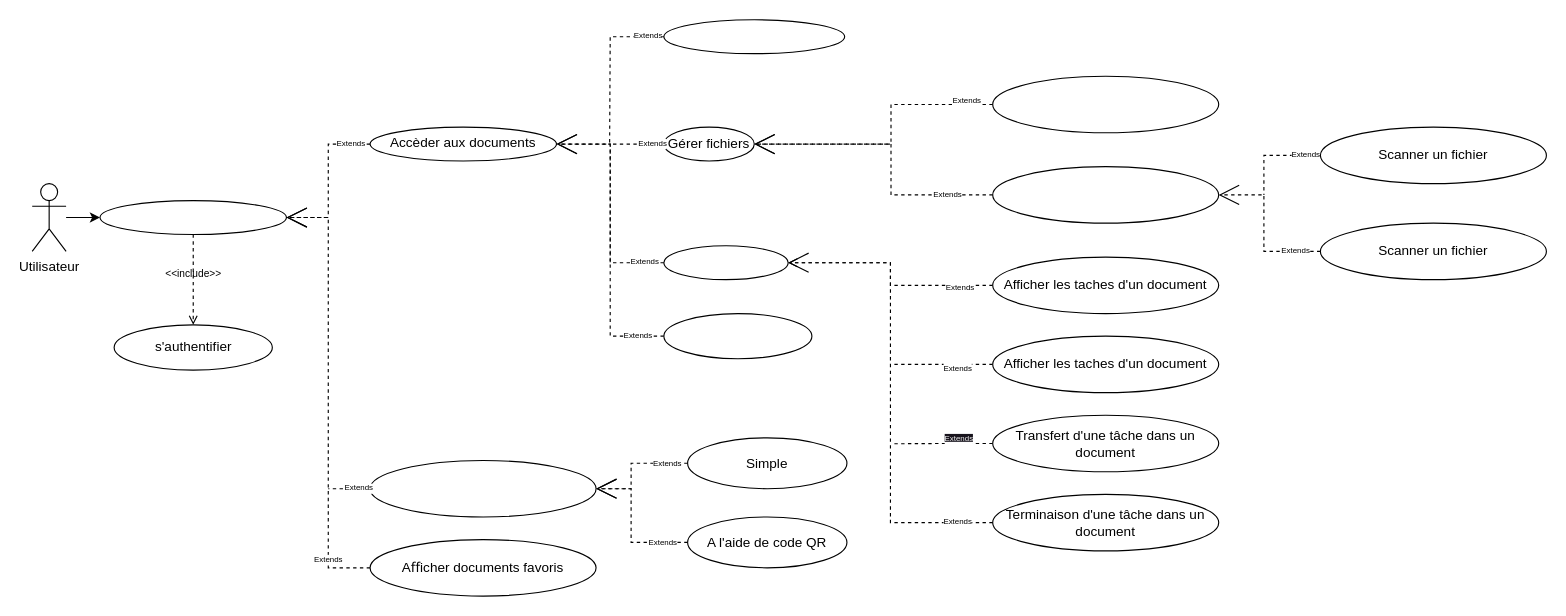
This 1566x616 diagram has some shape labels left out. The box of each missing label's shape, as (x1, y1, x2, y2) in pixels:
Afficher details: (663, 19, 845, 54)
Affichier les fichiers: (992, 75, 1219, 133)
Ajout de fichiers à un document: (992, 166, 1219, 223)
Gérer documents: (99, 199, 286, 234)
Gérer les tâches: (663, 245, 788, 280)
Recherche de documents: (369, 459, 596, 517)
Télécharger un document: (663, 312, 812, 359)
